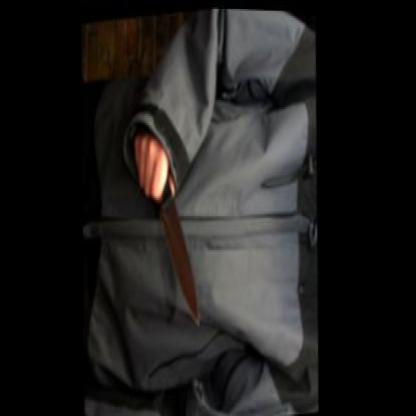knife: (127, 119, 216, 342)
